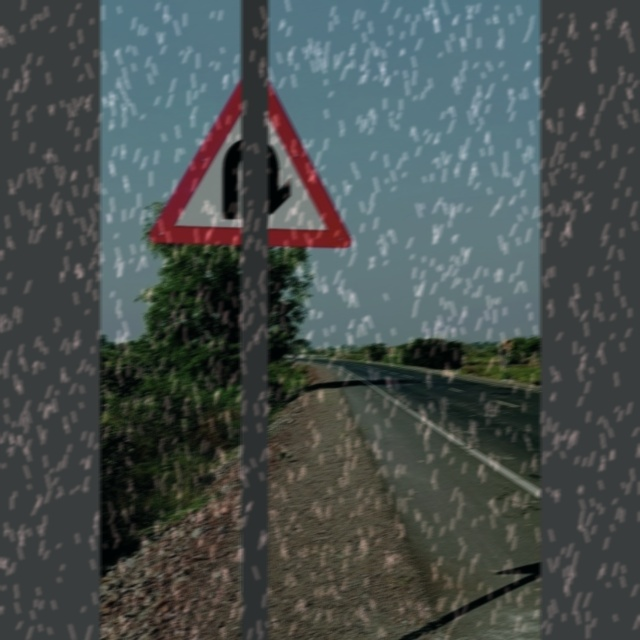Right_Hair_Pin_Bend: (164, 60, 349, 247)
